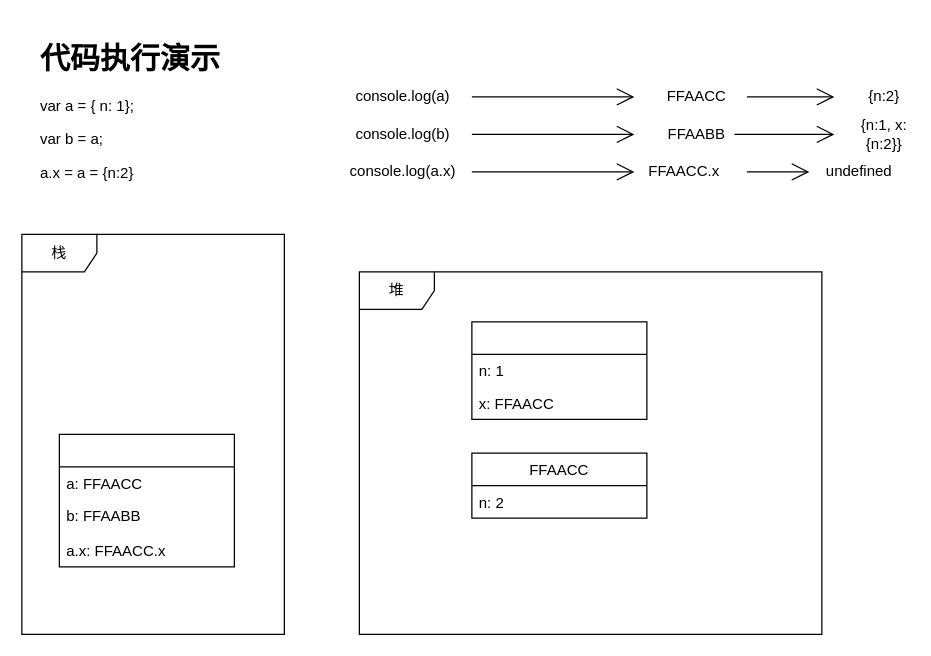
Image size: 931x656. Some labels were removed from this diagram. The box of each missing label's shape, as (x1, y1, x2, y2) in pixels:
Classname: (471, 321, 647, 419)
GE: (58, 433, 234, 567)
